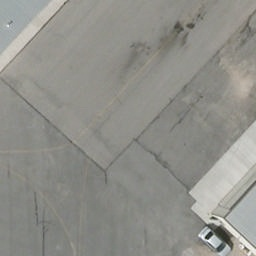car: (194, 225, 232, 255)
